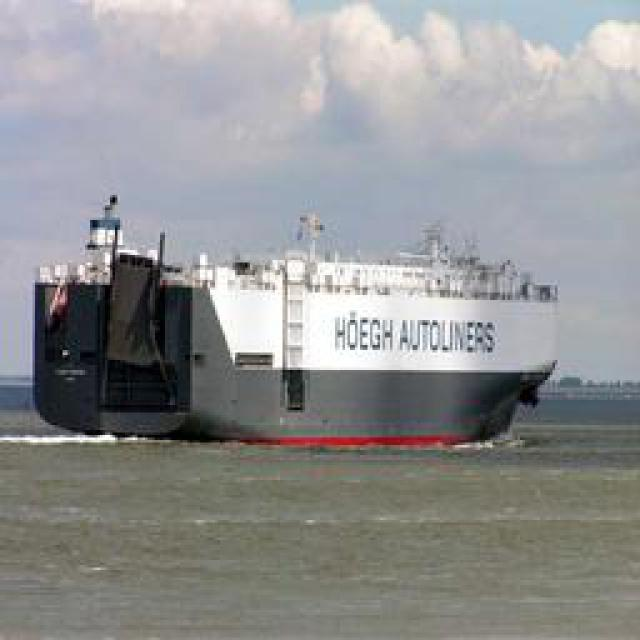Ship: (35, 175, 563, 448)
